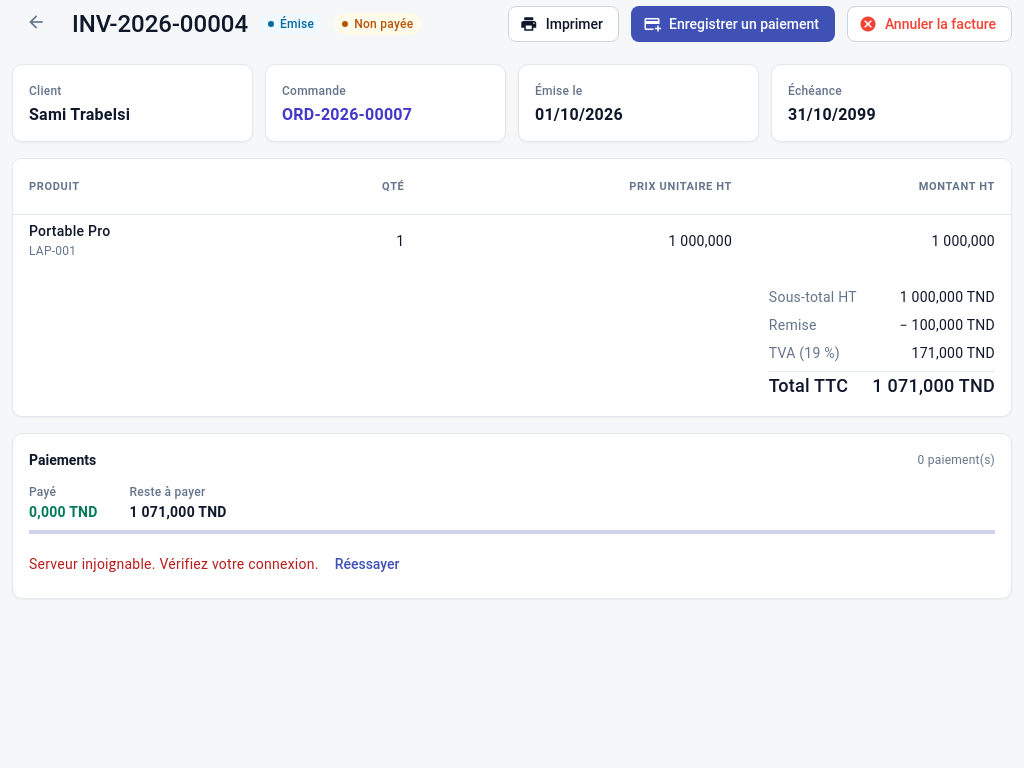
InvoiceDetailComponent › payments › shows the error of the payments and reloads them on demand
Expected: the message with class "error-line" shows "Serveur injoignable", [29, 556, 319, 572]
Click the button "Réessayer": {"x": 367, "y": 564} [327, 546, 408, 582]
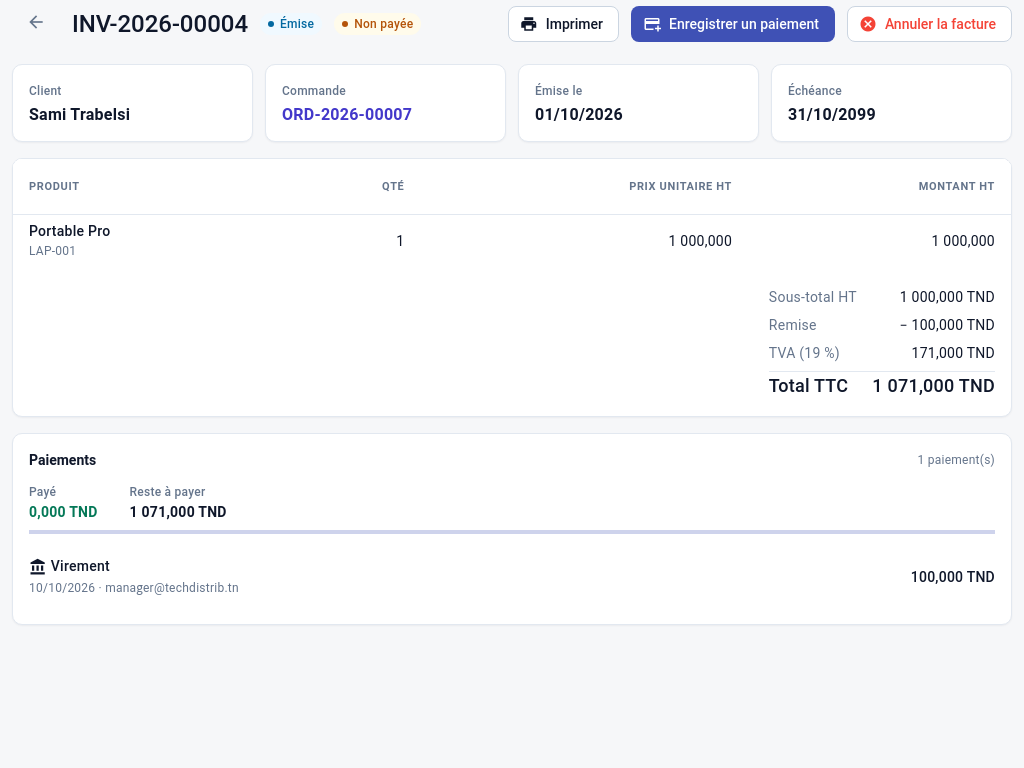
Result: the number of list items with class "compact-row" is 1 at [29, 558, 995, 595]
